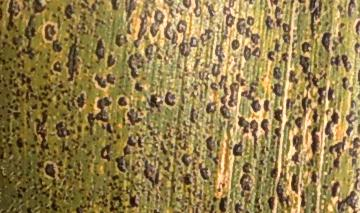tarspot: (133, 1, 156, 48), (64, 36, 82, 82), (240, 76, 262, 113), (34, 110, 50, 154), (335, 189, 360, 213), (328, 135, 345, 170), (147, 8, 165, 38), (126, 52, 144, 80), (248, 118, 259, 160), (94, 96, 111, 122), (7, 1, 21, 32), (276, 182, 292, 209), (142, 158, 155, 188), (217, 74, 230, 104), (309, 6, 320, 40), (290, 132, 302, 163), (23, 14, 37, 40), (22, 40, 38, 61), (221, 5, 236, 27), (310, 125, 320, 158), (346, 135, 360, 158), (148, 93, 164, 113), (114, 155, 131, 172), (54, 121, 70, 139), (125, 108, 143, 124), (238, 173, 254, 191), (260, 117, 270, 145), (323, 119, 335, 142), (228, 82, 239, 107), (236, 114, 249, 135), (92, 72, 108, 89), (320, 30, 331, 54), (94, 38, 104, 64), (122, 1, 138, 17), (199, 28, 214, 45), (42, 23, 56, 41), (197, 162, 211, 180), (270, 80, 284, 98), (300, 90, 309, 118), (340, 53, 353, 72), (100, 143, 112, 163), (142, 43, 154, 63), (125, 193, 140, 209), (43, 162, 57, 179), (202, 1, 216, 18), (298, 53, 309, 74), (84, 112, 94, 135), (235, 16, 247, 35), (329, 106, 341, 125), (218, 104, 232, 120), (273, 5, 283, 27), (214, 44, 226, 62), (290, 172, 299, 196), (75, 91, 85, 112), (114, 33, 128, 48), (344, 109, 358, 124), (177, 172, 193, 185), (178, 41, 191, 57), (234, 71, 247, 87), (232, 139, 243, 157), (32, 1, 47, 14), (105, 54, 118, 69), (205, 100, 217, 116), (287, 69, 299, 85), (353, 166, 360, 193), (204, 135, 215, 152), (191, 1, 202, 18), (154, 161, 162, 184), (317, 84, 325, 107), (163, 21, 172, 41), (164, 91, 176, 106), (218, 195, 228, 213), (176, 18, 188, 33), (220, 24, 229, 44), (272, 108, 284, 123), (278, 168, 289, 184), (330, 179, 339, 198), (125, 18, 135, 35), (242, 44, 252, 61), (36, 176, 48, 190), (116, 95, 130, 107), (188, 104, 196, 125), (180, 152, 192, 166), (329, 54, 341, 68), (298, 188, 306, 209), (311, 107, 320, 125), (64, 3, 74, 19), (336, 3, 346, 19), (272, 65, 282, 81), (266, 194, 276, 210), (210, 62, 221, 76), (344, 124, 355, 138), (326, 85, 335, 102), (169, 29, 179, 44), (264, 15, 274, 30), (250, 46, 262, 58), (52, 60, 63, 73), (105, 73, 116, 86), (133, 80, 144, 93), (126, 134, 137, 147), (230, 38, 241, 51), (266, 50, 277, 63), (241, 160, 252, 173), (158, 140, 168, 154), (347, 1, 355, 18), (192, 56, 201, 71), (336, 30, 345, 45), (293, 115, 302, 130), (51, 40, 62, 52), (177, 140, 189, 151), (188, 36, 199, 48), (249, 32, 260, 44), (301, 40, 312, 52), (63, 144, 73, 157), (273, 38, 282, 52), (341, 76, 350, 90), (50, 198, 58, 213), (108, 1, 120, 11), (209, 80, 219, 92), (245, 14, 255, 26), (281, 21, 291, 33), (262, 98, 270, 113), (270, 165, 278, 180), (273, 124, 281, 139), (233, 201, 243, 213), (192, 145, 201, 158), (310, 169, 317, 185), (42, 83, 53, 93), (283, 120, 294, 130), (167, 7, 176, 19), (280, 51, 289, 63), (352, 41, 360, 54), (311, 74, 319, 87), (354, 19, 360, 36), (281, 33, 291, 43), (163, 161, 172, 172), (24, 116, 31, 130), (55, 14, 61, 30), (15, 136, 23, 148), (30, 181, 38, 193), (175, 109, 181, 125), (39, 101, 49, 110), (11, 111, 21, 120), (112, 194, 121, 204), (162, 55, 172, 64), (122, 145, 131, 155), (172, 158, 182, 167), (173, 126, 183, 135), (252, 203, 261, 213), (11, 35, 19, 46), (10, 89, 21, 97), (69, 137, 80, 145), (136, 137, 144, 148), (212, 154, 220, 165), (181, 1, 192, 9), (65, 100, 72, 112), (60, 139, 66, 153), (105, 122, 112, 134), (308, 1, 315, 13), (284, 96, 290, 110), (349, 98, 356, 110), (55, 158, 64, 167), (330, 37, 339, 46), (320, 182, 329, 191), (30, 131, 38, 141), (108, 204, 118, 212), (226, 120, 234, 130), (23, 90, 29, 103), (148, 130, 161, 136), (75, 160, 82, 171), (245, 27, 252, 38), (161, 1, 176, 6), (25, 84, 33, 93), (36, 160, 45, 168), (131, 181, 143, 187), (174, 134, 186, 140), (350, 156, 356, 168), (162, 171, 170, 180), (73, 170, 80, 180), (74, 206, 84, 213), (110, 174, 120, 181), (144, 106, 154, 113), (304, 81, 311, 91), (355, 122, 360, 136), (356, 68, 360, 85), (18, 11, 24, 22), (1, 168, 7, 179), (145, 152, 156, 158), (196, 188, 202, 199), (216, 137, 222, 148), (218, 122, 224, 133), (28, 92, 36, 100), (30, 102, 38, 110), (23, 110, 31, 118), (65, 162, 73, 170), (57, 172, 65, 180), (29, 65, 36, 74), (15, 189, 22, 198), (54, 93, 61, 102), (75, 124, 82, 133), (101, 200, 108, 209), (129, 184, 138, 191), (16, 50, 22, 60), (191, 187, 197, 197), (209, 203, 215, 213), (227, 1, 237, 7), (317, 1, 322, 13), (290, 51, 296, 61), (24, 76, 31, 84), (4, 125, 11, 133), (29, 142, 36, 150), (23, 170, 31, 177), (67, 32, 74, 40), (153, 45, 161, 52), (155, 53, 162, 61), (150, 142, 158, 149), (181, 119, 188, 127), (211, 195, 219, 202), (190, 91, 197, 99), (338, 21, 345, 29), (182, 64, 189, 72), (269, 1, 280, 6), (327, 164, 332, 175), (25, 4, 31, 13), (1, 40, 7, 49), (19, 77, 25, 86), (83, 124, 89, 133), (70, 127, 76, 136), (99, 121, 105, 130), (52, 189, 58, 198), (120, 116, 126, 125), (123, 184, 129, 193), (151, 207, 160, 213), (170, 183, 176, 192), (215, 22, 221, 31), (321, 71, 327, 80), (304, 73, 310, 82), (51, 177, 56, 187), (236, 62, 241, 72), (309, 157, 314, 167), (259, 144, 264, 154), (7, 78, 14, 85), (14, 125, 21, 132), (67, 23, 74, 30), (53, 102, 60, 109), (25, 206, 32, 213), (80, 142, 87, 149), (85, 149, 92, 156), (85, 201, 92, 208), (78, 187, 85, 194), (79, 2, 86, 9), (175, 62, 182, 69), (192, 83, 199, 90), (232, 57, 239, 64), (257, 158, 264, 165), (93, 32, 100, 39), (1, 6, 4, 22), (13, 103, 19, 111), (18, 170, 24, 178), (72, 79, 78, 87), (44, 190, 50, 198), (57, 166, 65, 172), (64, 207, 72, 213), (85, 196, 93, 202), (90, 2, 96, 10), (78, 14, 86, 20), (79, 22, 85, 30), (125, 48, 133, 54), (135, 160, 141, 168), (162, 132, 168, 140), (131, 170, 139, 176), (186, 186, 192, 194), (301, 4, 307, 12), (289, 1, 295, 9), (322, 5, 328, 13), (310, 204, 316, 212), (269, 155, 275, 163), (78, 45, 86, 51), (20, 1, 25, 10), (59, 89, 68, 94), (254, 195, 259, 204), (1, 150, 5, 161), (93, 1, 104, 5), (296, 1, 307, 5), (276, 139, 280, 150), (3, 32, 9, 39), (19, 61, 25, 68), (55, 5, 61, 12), (45, 56, 51, 63), (43, 63, 50, 69), (12, 82, 18, 89), (4, 92, 10, 99), (19, 89, 25, 96), (41, 73, 48, 79), (5, 108, 12, 114), (36, 94, 43, 100), (5, 117, 12, 123), (45, 149, 51, 156), (4, 136, 11, 142), (6, 142, 12, 149), (22, 140, 29, 146), (7, 177, 13, 184), (12, 179, 19, 185), (69, 120, 75, 127), (76, 111, 82, 118), (77, 118, 84, 124), (75, 133, 81, 140), (52, 140, 58, 147), (114, 132, 120, 139), (107, 134, 113, 141), (85, 63, 91, 70), (118, 74, 125, 80), (73, 144, 80, 150), (68, 196, 75, 202), (163, 47, 169, 54), (125, 126, 132, 132), (146, 124, 152, 131), (151, 135, 158, 141), (165, 139, 171, 146), (144, 196, 151, 202), (182, 126, 188, 133), (178, 104, 184, 111), (145, 189, 151, 196), (170, 175, 176, 182), (174, 195, 180, 202), (183, 87, 189, 94), (324, 20, 330, 27), (330, 45, 337, 51), (347, 85, 353, 92), (295, 93, 301, 100), (306, 124, 312, 131), (271, 134, 277, 141), (206, 198, 212, 205), (77, 83, 83, 90), (1, 57, 6, 65), (48, 68, 53, 76), (56, 83, 64, 88), (1, 126, 6, 134), (36, 150, 44, 155), (80, 175, 85, 183), (62, 178, 67, 186), (38, 199, 43, 207), (78, 204, 86, 209), (105, 168, 110, 176), (88, 28, 93, 36), (172, 150, 177, 158), (294, 6, 299, 14), (355, 92, 360, 100), (325, 107, 330, 115), (187, 198, 192, 206), (15, 62, 21, 68), (50, 12, 56, 18), (45, 5, 51, 11), (15, 97, 21, 103), (4, 100, 10, 106), (43, 91, 49, 97), (7, 150, 13, 156), (30, 150, 36, 156), (26, 176, 32, 182), (20, 186, 26, 192), (11, 170, 17, 176), (32, 195, 38, 201), (62, 36, 68, 42), (61, 100, 67, 106), (9, 205, 15, 211), (89, 153, 95, 159), (88, 209, 97, 213), (95, 200, 101, 206), (100, 194, 106, 200), (94, 10, 100, 16), (135, 63, 141, 69), (292, 38, 298, 44), (290, 43, 294, 52), (312, 62, 318, 68), (317, 68, 323, 74), (307, 97, 311, 106), (240, 189, 244, 198), (18, 33, 23, 40), (9, 69, 16, 74), (45, 51, 52, 56), (19, 72, 26, 77), (37, 84, 42, 91), (45, 97, 52, 102), (14, 132, 21, 137), (35, 167, 40, 174), (25, 160, 32, 165), (13, 162, 18, 169), (70, 100, 75, 107), (51, 154, 58, 159), (11, 193, 16, 200), (112, 120, 117, 127), (86, 163, 91, 170), (56, 180, 61, 187), (66, 190, 73, 195), (102, 177, 107, 184), (118, 184, 123, 191), (81, 30, 88, 35), (88, 10, 93, 17), (101, 9, 106, 16), (93, 17, 100, 22), (167, 130, 172, 137), (157, 185, 162, 192), (124, 171, 131, 176), (190, 166, 197, 171), (190, 206, 195, 213), (207, 151, 212, 158), (266, 7, 271, 14), (290, 27, 297, 32), (281, 1, 288, 6), (316, 20, 321, 27), (322, 144, 327, 151), (290, 114, 295, 121), (298, 181, 303, 188), (279, 208, 286, 213), (116, 84, 123, 89), (20, 121, 24, 129), (40, 190, 44, 198), (264, 144, 268, 152), (7, 56, 13, 61), (61, 17, 67, 22), (46, 46, 52, 51), (1, 76, 6, 82), (15, 71, 20, 77), (34, 141, 40, 146), (17, 148, 23, 153), (60, 111, 66, 116), (68, 114, 74, 119), (52, 148, 57, 154), (66, 155, 72, 160), (112, 128, 117, 134), (82, 68, 87, 74), (19, 200, 25, 205), (44, 205, 50, 210), (58, 186, 63, 192), (63, 195, 68, 201), (87, 190, 92, 196), (109, 185, 114, 191), (108, 15, 114, 20), (99, 19, 104, 25), (141, 100, 147, 105), (132, 150, 138, 155), (165, 122, 171, 127), (169, 142, 174, 148), (165, 156, 171, 161), (125, 177, 131, 182), (176, 185, 182, 190), (140, 187, 145, 193), (216, 186, 221, 192), (220, 181, 225, 187), (250, 44, 256, 49), (334, 65, 339, 71), (315, 151, 320, 157), (88, 102, 94, 107), (10, 127, 14, 134), (136, 107, 143, 111), (128, 187, 132, 194), (184, 195, 191, 199), (194, 206, 198, 213), (325, 12, 329, 19), (270, 144, 274, 151), (258, 168, 262, 175), (257, 175, 261, 182), (37, 50, 42, 55), (11, 98, 16, 103), (58, 79, 63, 84), (54, 72, 59, 77), (17, 159, 22, 164), (26, 165, 31, 170), (17, 164, 22, 169), (28, 193, 33, 198), (62, 116, 67, 121), (1, 208, 6, 213), (112, 139, 117, 144), (95, 135, 100, 140), (90, 136, 95, 141), (76, 176, 81, 181), (56, 191, 61, 196), (95, 190, 100, 195), (104, 198, 109, 203), (138, 111, 143, 116), (138, 127, 143, 132), (167, 150, 172, 155), (121, 204, 126, 209), (123, 197, 128, 202), (178, 169, 183, 174), (158, 195, 163, 200), (180, 208, 185, 213), (208, 180, 213, 185), (192, 155, 197, 160), (292, 33, 297, 38), (277, 59, 282, 64), (265, 174, 270, 179), (74, 70, 79, 75), (75, 57, 80, 62), (11, 45, 15, 51), (39, 64, 43, 70), (2, 82, 6, 88), (1, 104, 5, 110), (52, 76, 58, 80), (1, 133, 5, 139), (88, 158, 92, 164), (92, 161, 98, 165), (67, 184, 73, 188), (98, 209, 104, 213), (74, 24, 78, 30), (92, 22, 98, 26), (131, 164, 135, 170), (191, 161, 197, 165), (203, 192, 207, 198), (203, 206, 207, 212), (247, 1, 253, 5), (318, 61, 322, 67), (24, 1, 31, 4), (7, 42, 10, 49), (118, 210, 125, 213), (6, 65, 11, 69), (65, 28, 69, 33), (83, 158, 87, 163), (95, 172, 99, 177), (33, 203, 37, 208), (80, 195, 84, 200), (108, 181, 112, 186), (75, 31, 80, 35), (135, 132, 140, 136), (140, 132, 144, 137), (138, 148, 142, 153), (172, 116, 176, 121), (182, 198, 187, 202), (180, 202, 184, 207), (317, 51, 321, 56), (323, 63, 328, 67), (262, 165, 266, 170), (253, 165, 257, 170), (87, 77, 91, 82), (70, 95, 73, 101), (73, 150, 79, 153), (114, 184, 117, 190), (184, 203, 187, 209), (296, 104, 299, 110), (247, 198, 250, 204), (260, 191, 263, 197), (3, 66, 7, 70), (8, 74, 12, 78), (71, 89, 75, 93), (66, 117, 70, 121), (97, 187, 101, 191), (136, 155, 140, 159), (141, 156, 145, 160), (1, 1, 4, 6), (1, 51, 4, 56), (17, 185, 22, 188), (113, 180, 116, 185), (1, 112, 3, 119), (81, 1, 88, 3), (15, 45, 18, 49), (77, 1, 80, 5), (177, 166, 181, 169), (332, 51, 338, 53), (1, 90, 2, 97), (1, 78, 2, 84)
